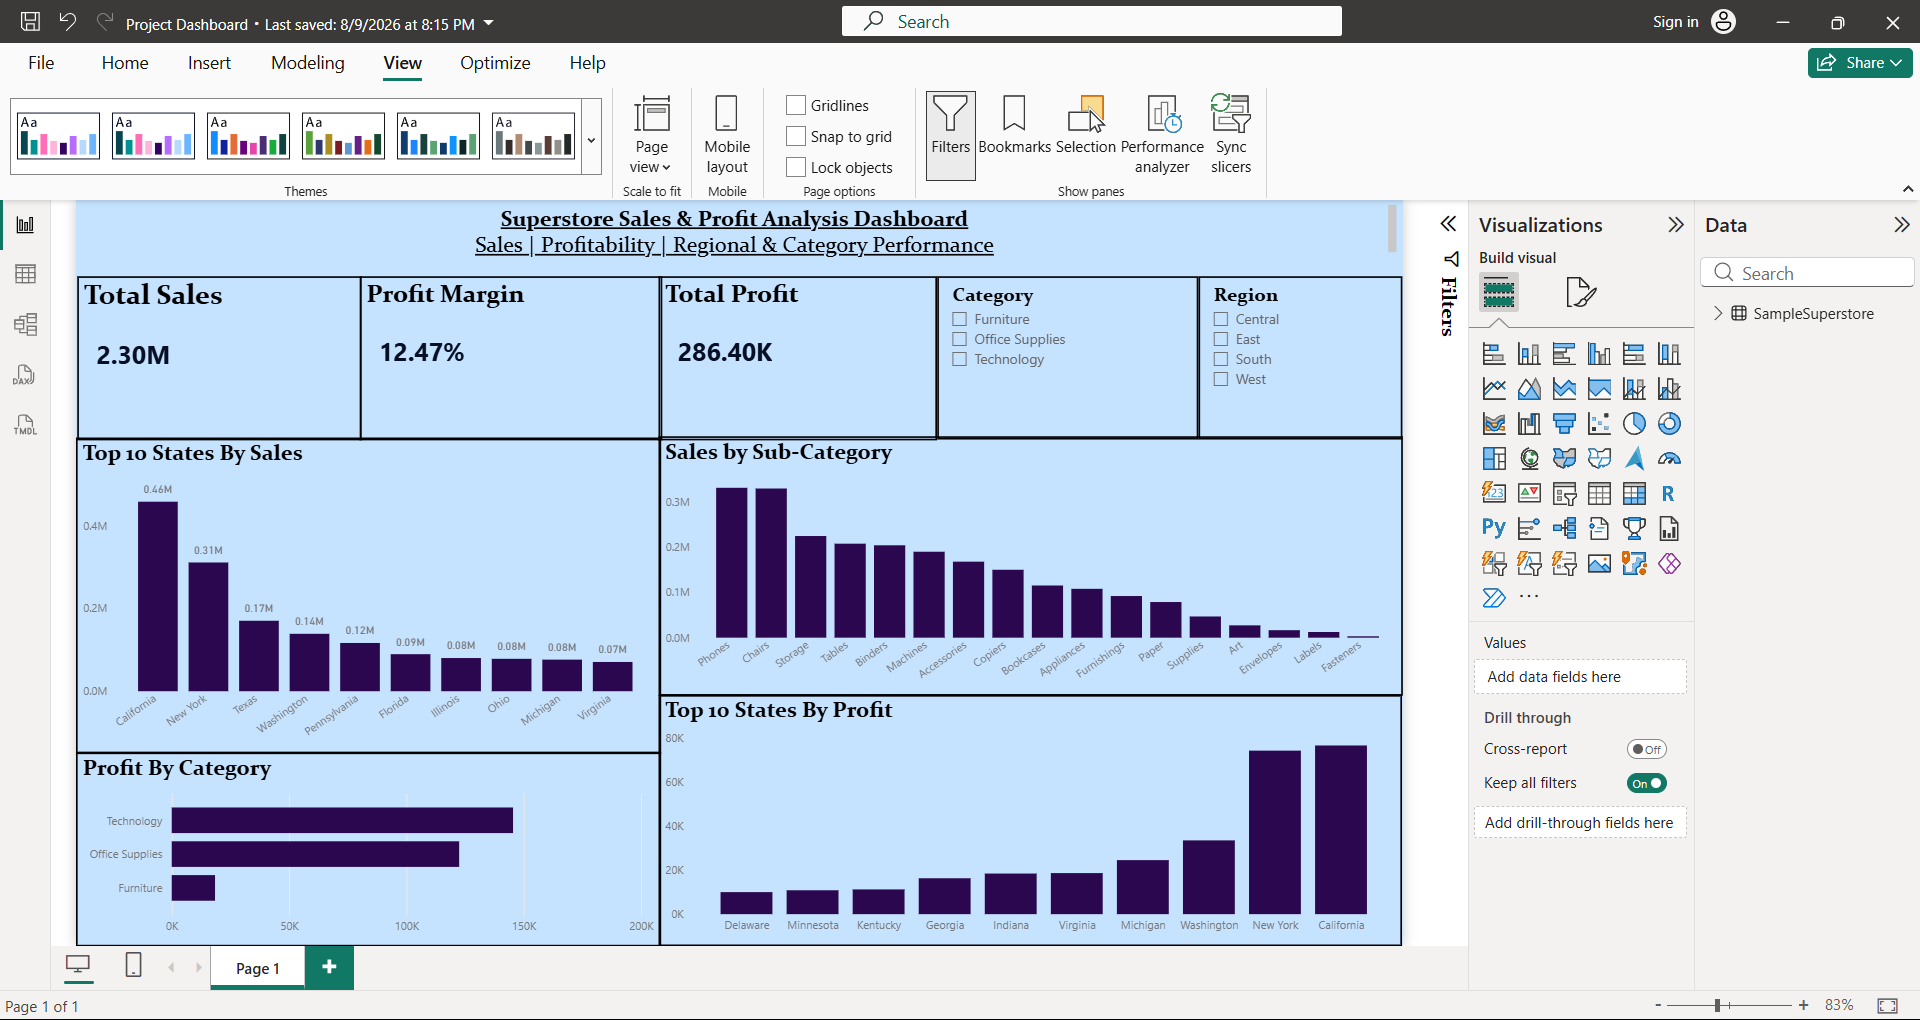

What the dashboard file says about the page in this screenshot:
{"tool":"powerbi","page":{"name":"Page 1","canvas":[1280,720],"ordinal":0},"visuals":[{"type":"cardVisual","title":"Total Sales","fields":{"Data":["SampleSuperstore.Total Sales"]},"box":[1,73.5,274.5,158.2],"z":0},{"type":"cardVisual","title":"Total Profit","fields":{"Data":["SampleSuperstore.Total Profit"]},"box":[562.8,73.6,268.5,158.2],"z":1000},{"type":"cardVisual","title":"Profit Margin","fields":{"Data":["SampleSuperstore.Profit Margin"]},"box":[273.5,73.5,291.8,158.2],"z":2000},{"type":"clusteredColumnChart","title":"Top 10 States By Sales","fields":{"Category":["SampleSuperstore.State"],"Y":["Sum(SampleSuperstore.Sales)"]},"box":[0,228.7,564.9,304.5],"z":3000},{"type":"clusteredBarChart","title":"Profit By Category","fields":{"Category":["SampleSuperstore.Category"],"Y":["Sum(SampleSuperstore.Profit)"]},"box":[0,533.2,564.9,187.1],"z":4000},{"type":"clusteredColumnChart","title":"Sales by Sub-Category","fields":{"Category":["SampleSuperstore.Sub-Category"],"Y":["Sum(SampleSuperstore.Sales)"]},"box":[562.2,228.6,718.4,250],"z":5000},{"type":"clusteredColumnChart","title":"Top 10 States By Profit","fields":{"Category":["SampleSuperstore.State"],"Y":["Sum(SampleSuperstore.Profit)"]},"box":[562.5,478.1,717.8,242.1],"z":6000},{"type":"slicer","fields":{"Values":["SampleSuperstore.Category"]},"box":[831.5,73.4,251.9,157.7],"z":7000},{"type":"slicer","fields":{"Values":["SampleSuperstore.Region"]},"box":[1083.4,73.4,196.9,157.7],"z":8000},{"type":"textbox","box":[0,0,1279.1,73.4],"z":9000}]}

Visuals, with their boxes on the page's 1280x720 design canvas (x1, y1, x2, y2). These are canvas units, not pixel positions in the 1920x1020 screenshot, which may show the page scaled, cropped or inside an application window:
"Total Sales" cardVisual: [1,74,276,232]
"Total Profit" cardVisual: [563,74,831,232]
"Profit Margin" cardVisual: [274,74,565,232]
"Top 10 States By Sales" clusteredColumnChart: [0,229,565,533]
"Profit By Category" clusteredBarChart: [0,533,565,720]
"Sales by Sub-Category" clusteredColumnChart: [562,229,1281,479]
"Top 10 States By Profit" clusteredColumnChart: [562,478,1280,720]
slicer - SampleSuperstore.Category: [832,73,1083,231]
slicer - SampleSuperstore.Region: [1083,73,1280,231]
textbox: [0,0,1279,73]
